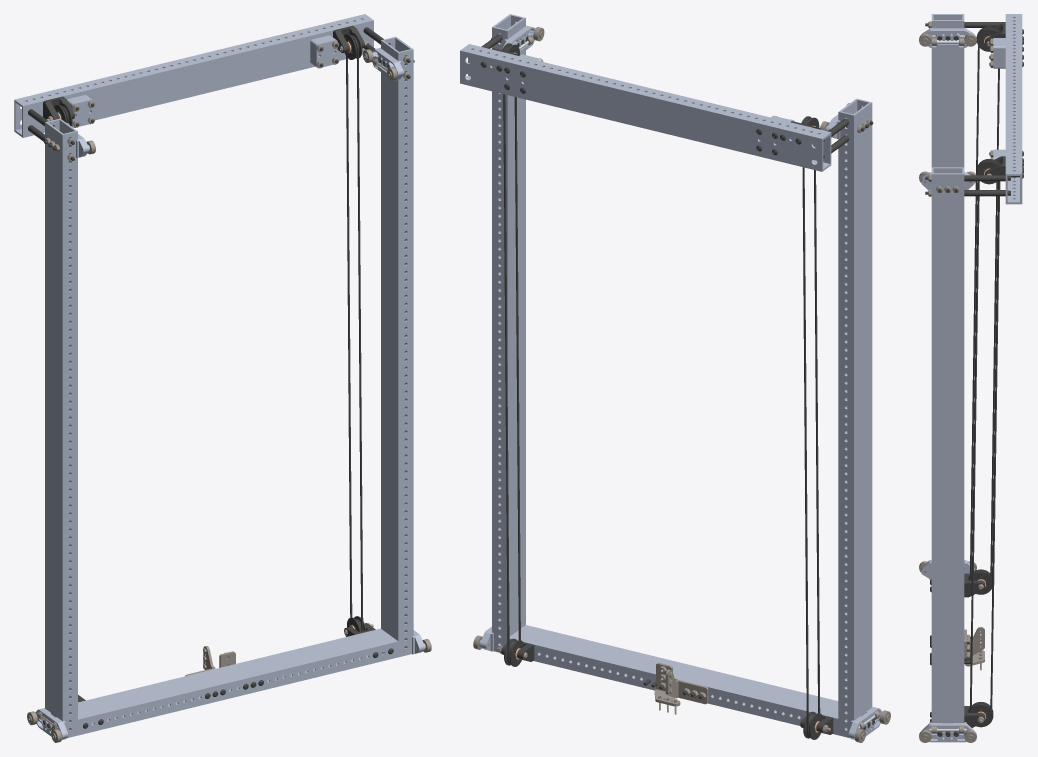
3 renders of one model, left to right at view 1: azimuth 30°, elevation 25°; view 2: azimuth 150°, elevation 25°; view 3: azimuth 270°, elevation 25°, orthographic. The views are drawn at different scales.
Visible parts, largest first — view 1: (3) 1st V tube (×2), (3) 1st Upper H tube, (3) 1st H tube, (3) String 2; view 2: (3) 1st V tube (×2), (3) 1st Upper H tube, (3) 1st H tube, (3) String 2 (×2), WCP-0583-026 Rev1; view 3: (3) 1st V tube (×2), (3) String 2 (×2), (3) 1st Upper H tube, WCP-0897-001 Rev1 (×4), WCP-0096 (×4), Cascade Pulley Block (WCP-0298) (×3), Aluminum Spacers (.196" ID x 3/8" OD x 2" WD) (5-Pack) (WCP- (×2), WCP-0583-026 Rev1, WCP-0583-025 Rev1.
Boxes of the visible parts, x1,y1,x2,y2 form: (3) 1st V tube (×2): (45,36,413,738); (3) 1st Upper H tube: (14,14,373,137); (3) 1st H tube: (78,628,398,735); (3) String 2: (346,34,363,631); (3) 1st V tube (×2): (492,14,872,737); (3) 1st Upper H tube: (460,44,831,171); (3) 1st H tube: (509,625,838,735); (3) String 2 (×2): (503,45,820,737); WCP-0583-026 Rev1: (665,669,708,704); (3) 1st V tube (×2): (931,14,964,727); (3) String 2 (×2): (969,46,1000,710); (3) 1st Upper H tube: (1005,14,1022,204); WCP-0897-001 Rev1 (×4): (921,27,974,742); WCP-0096 (×4): (969,29,997,727); Cascade Pulley Block (WCP-0298) (×3): (964,156,1005,727); Aluminum Spacers (.196" ID x 3/8" OD x 2" WD) (5-Pack) (WCP- (×2): (964,175,997,196); WCP-0583-026 Rev1: (964,627,984,655); WCP-0583-025 Rev1: (964,634,984,666).
Size of the model in its own units: 0.6258 by 0.976 by 0.1613.
